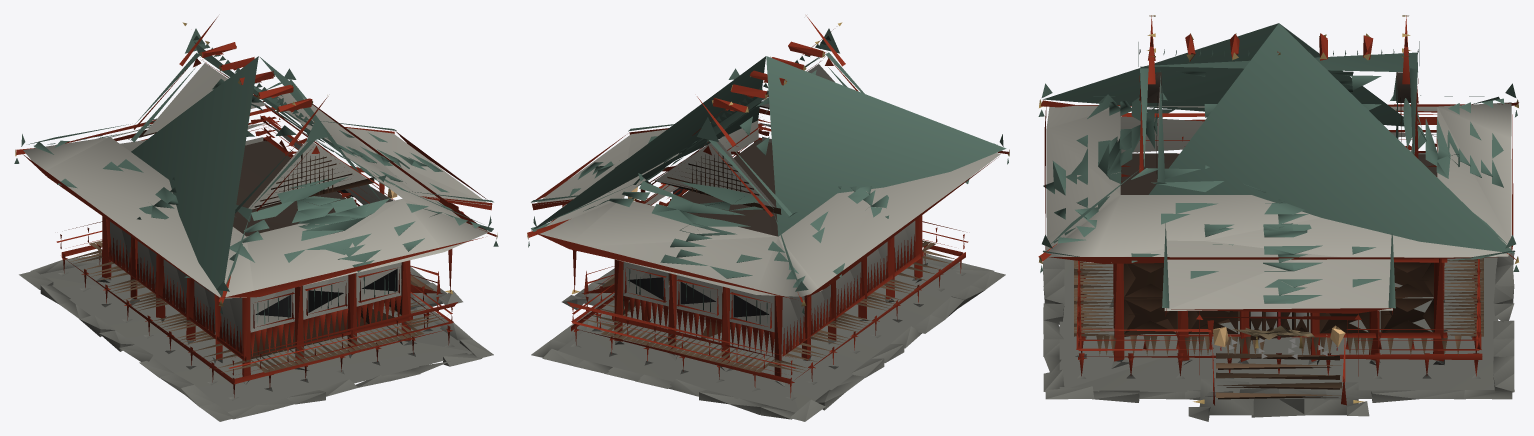
The model's file is SM_Shrine_Hall.glb.
The picture shows the model from 3 angles, left to right: view 1: azimuth 30°, elevation 25°; view 2: azimuth 150°, elevation 25°; view 3: azimuth 270°, elevation 25°; orthographic projection. The views are drawn at different scales.
Visible parts, largest first — view 1: SM_Shrine_Hall; view 2: SM_Shrine_Hall; view 3: SM_Shrine_Hall.
Part boxes in pixels (x1,y1,x2,y2): SM_Shrine_Hall: [14, 17, 498, 421]; SM_Shrine_Hall: [527, 15, 1009, 421]; SM_Shrine_Hall: [1038, 15, 1519, 421].
Size of the model in its own units: 11.9 by 9.19 by 13.05.
